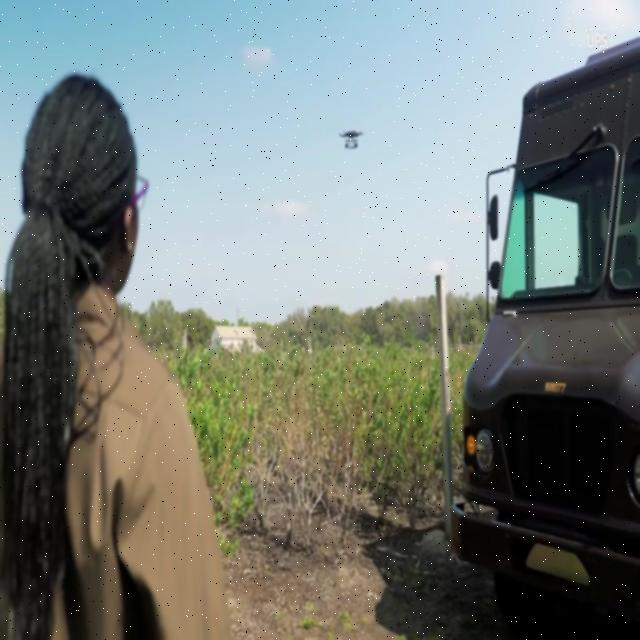UAV: (338, 131, 364, 149)
